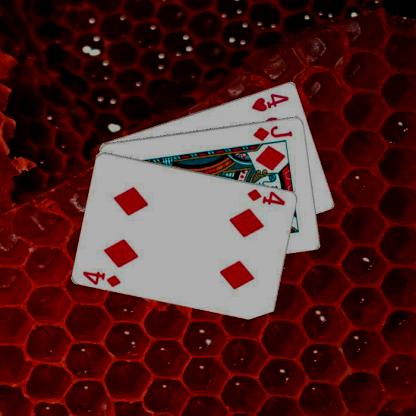4D: (245, 186, 286, 206), (81, 268, 122, 288)
4H: (249, 90, 290, 112)
JD: (250, 123, 294, 141)
